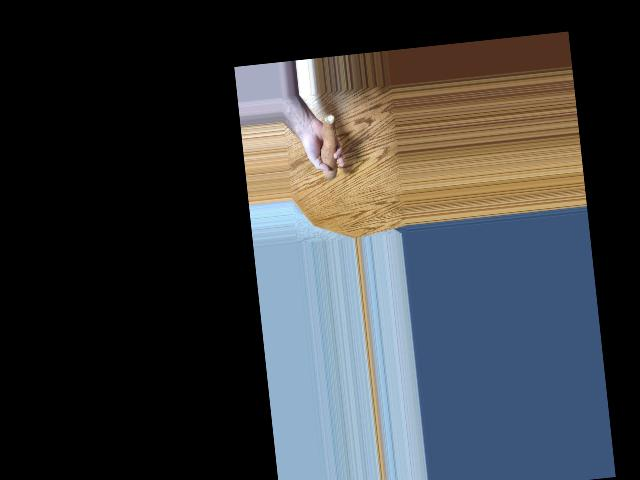sweet_potato: (319, 111, 343, 183)
